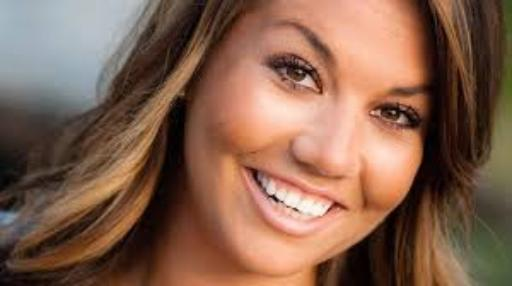left_eye: (369, 105, 420, 131)
left_lip_corner: (336, 198, 355, 218)
right_eye: (266, 54, 324, 97)
right_lip_corner: (235, 155, 256, 181)
